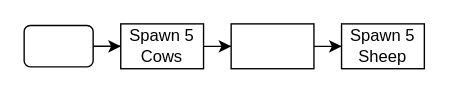
The diagram is 449 pixels wide and 94 high, and some of its shapes have lost their labels. The shapes that lost their labels are listed below. From the top down, each one's box as (x1, y1, x2, y2) in pixels, then its label:
(23, 24, 93, 67): Start
(230, 22, 314, 69): Spawn 5 Pigs
